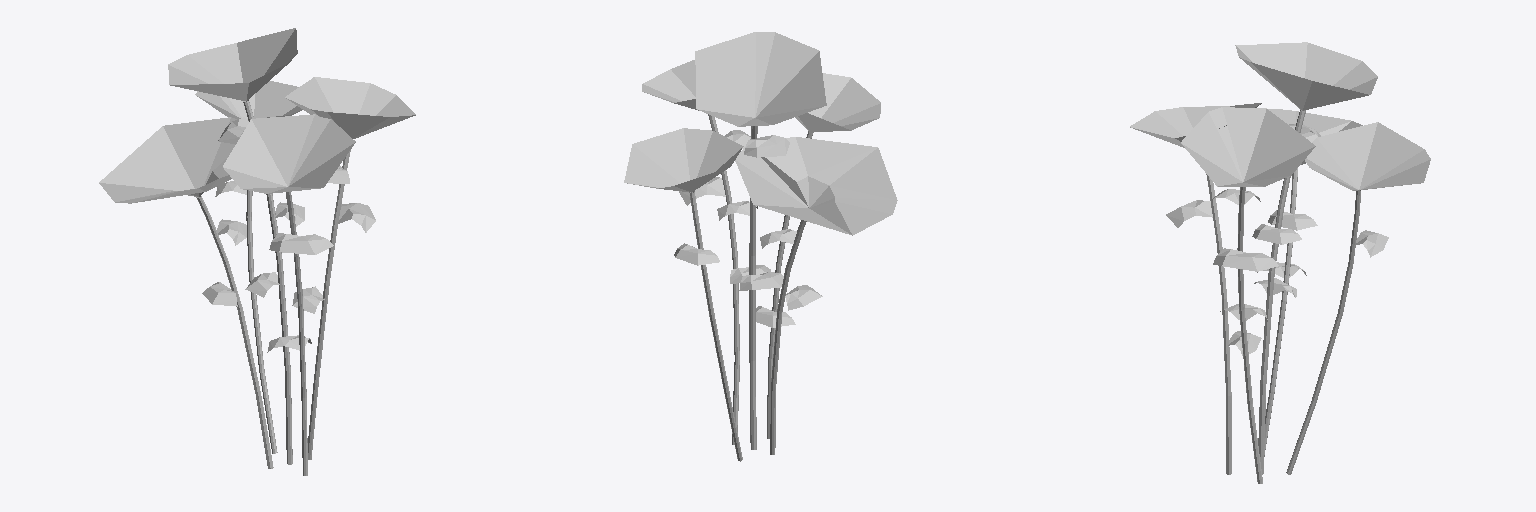
Rendered from Clover_2.obj.
3 renders of one model, left to right at view 1: azimuth 30°, elevation 25°; view 2: azimuth 150°, elevation 25°; view 3: azimuth 270°, elevation 25°, orthographic.
Visible parts, largest first — view 1: Clover_2; view 2: Clover_2; view 3: Clover_2.
Boxes of the visible parts, x1,y1,x2,y2 form: Clover_2: [99, 28, 415, 475]; Clover_2: [624, 32, 897, 461]; Clover_2: [1130, 42, 1430, 483].
Size of the model in its own units: 0.8511 by 1.26 by 0.8366.